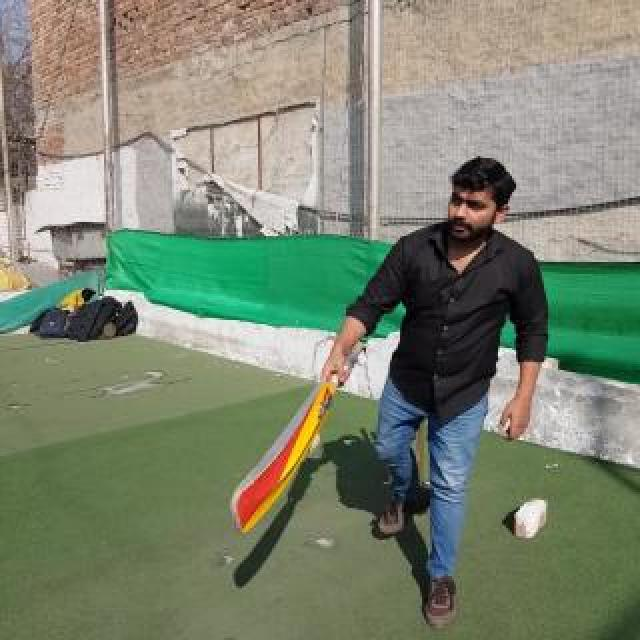bat: (231, 342, 363, 534)
